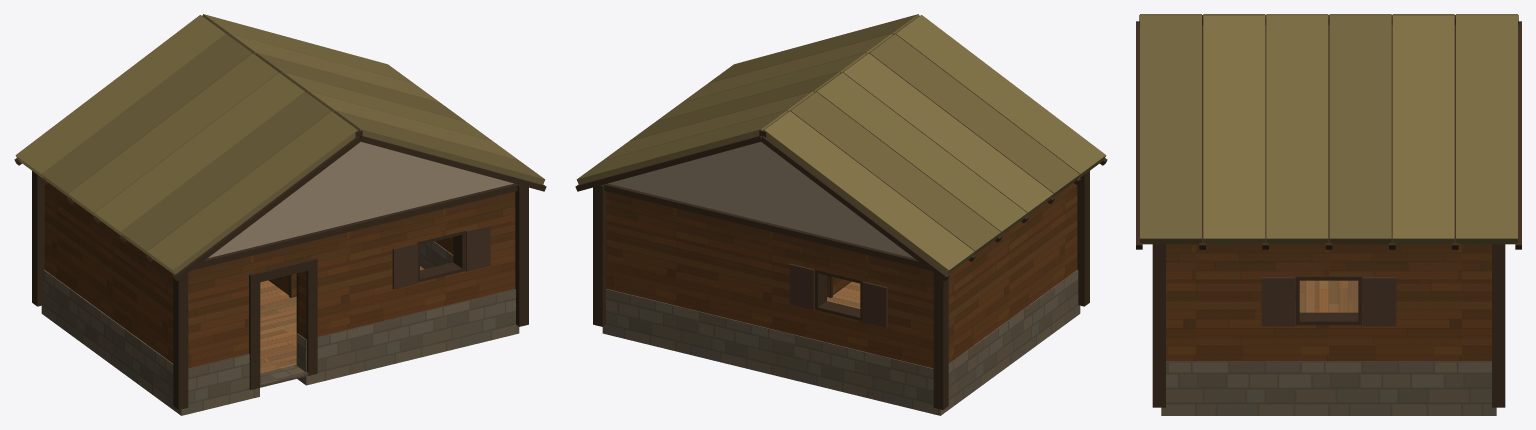
The model's file is casa.glb.
3 views of the same model, side by side, from view 1: azimuth 30°, elevation 25°; view 2: azimuth 150°, elevation 25°; view 3: azimuth 270°, elevation 25° (orthographic). The views are drawn at different scales.
Parts seen in each view (by area): view 1: casa-1, casa-0, casa-2; view 2: casa-1, casa-0, casa-2; view 3: casa-1, casa-0, casa-2.
Part boxes in pixels (box(x1,y1,x2,y2)): casa-1: box(14, 14, 546, 409); casa-0: box(44, 183, 515, 373); casa-2: box(41, 241, 519, 415); casa-1: box(575, 14, 1107, 409); casa-0: box(606, 183, 1077, 368); casa-2: box(602, 270, 1080, 415); casa-1: box(1136, 14, 1521, 407); casa-0: box(1166, 244, 1491, 361); casa-2: box(1161, 361, 1496, 415).
Size of the model in its own units: 7.76 by 5.01 by 5.8.
3 materials, 2 textured.
